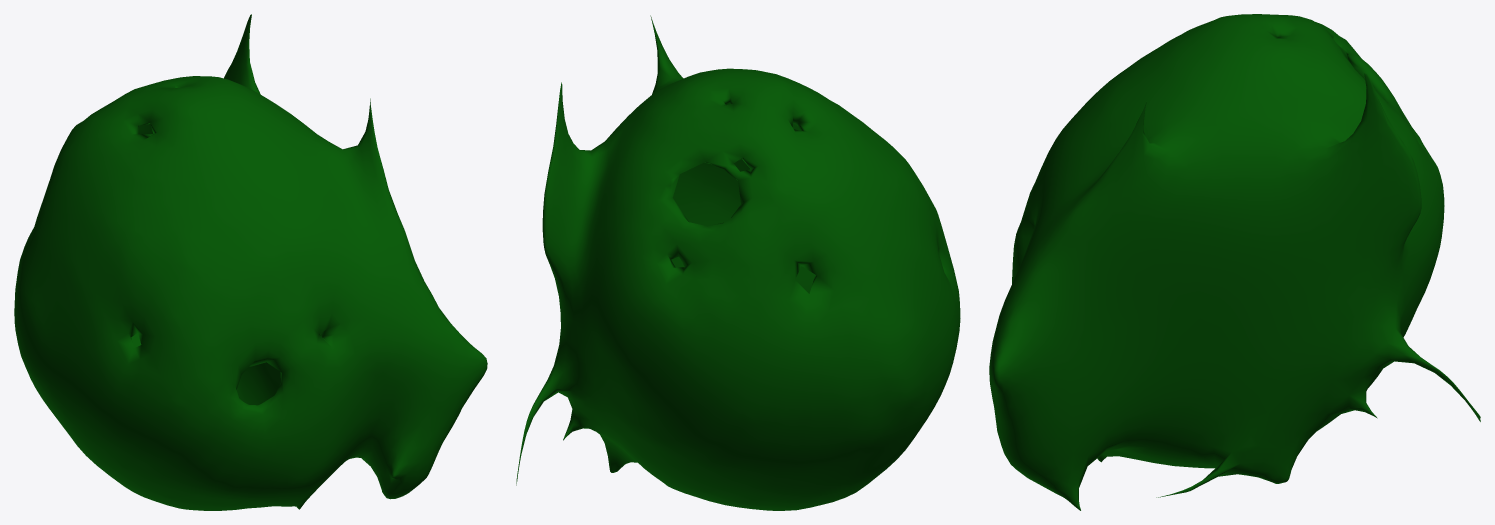
Rendered from Lesion.obj.
3 views of the same model, side by side, from view 1: azimuth 30°, elevation 25°; view 2: azimuth 150°, elevation 25°; view 3: azimuth 270°, elevation 25° (orthographic). The views are drawn at different scales.
Parts seen in each view (by area): view 1: grp1; view 2: grp1; view 3: grp1.
Part boxes in pixels (x1,y1,x2,y2): grp1: (14,14,487,510); grp1: (516,15,960,510); grp1: (989,14,1480,510).
Size of the model in its own units: 20.75 by 23.4 by 23.64.
